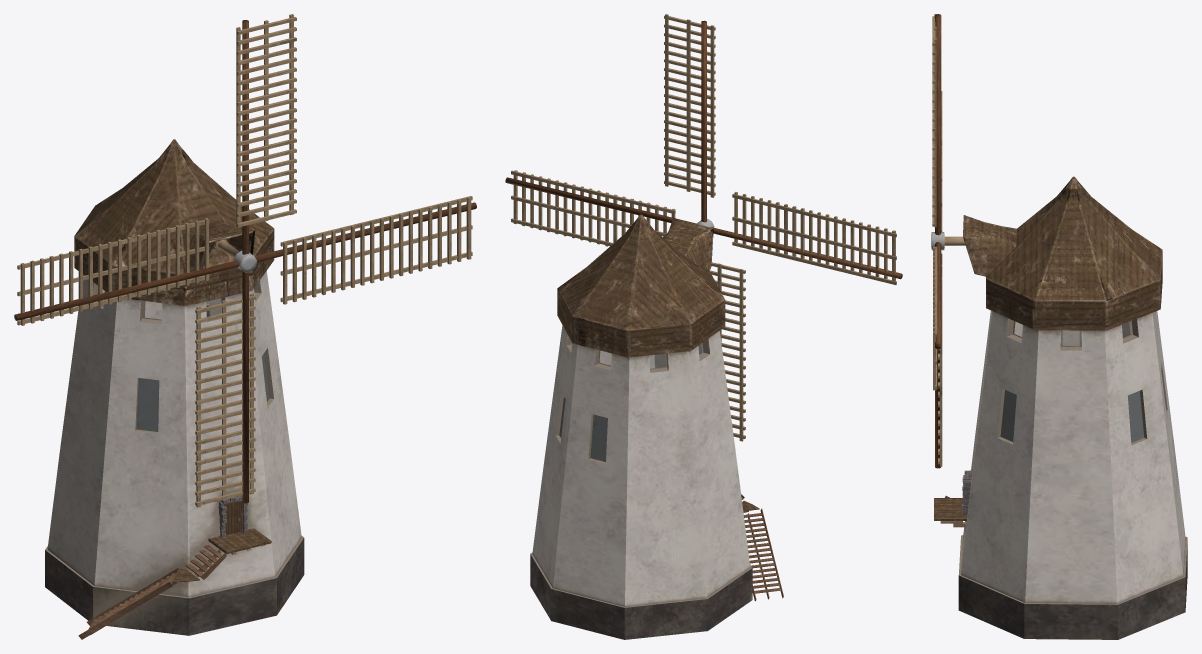
3 views of the same model, side by side, from view 1: azimuth 30°, elevation 25°; view 2: azimuth 150°, elevation 25°; view 3: azimuth 270°, elevation 25° (orthographic). The views are drawn at different scales.
Parts seen in each view (by area): view 1: Cube, Cube.001, Cube.049, Cube.048, Cube.051, Cube.050, Cylinder.002, Cylinder.001, Cube.010, Cube.004, Cube.005; view 2: Cube, Cube.001, Cube.051, Cube.048, Cube.049, Cube.050, Cylinder.002, Cube.005, Cylinder.001; view 3: Cube, Cube.001, Cylinder.001, Cube.048, Cube.050, Cube.004, Cube.049, Cylinder.002, Cylinder.
Part boxes in pixels (x1=…): Cube: x1=45, y1=271, x2=304, y2=635; Cube.001: x1=74, y1=139, x2=274, y2=306; Cube.049: x1=280, y1=196, x2=472, y2=304; Cube.048: x1=236, y1=14, x2=296, y2=227; Cube.051: x1=17, y1=218, x2=209, y2=325; Cube.050: x1=195, y1=293, x2=255, y2=507; Cylinder.002: x1=14, y1=202, x2=476, y2=320; Cylinder.001: x1=242, y1=20, x2=248, y2=503; Cube.010: x1=78, y1=549, x2=226, y2=639; Cube.004: x1=172, y1=528, x2=271, y2=582; Cube.005: x1=88, y1=545, x2=222, y2=629; Cube: x1=530, y1=325, x2=752, y2=639; Cube.001: x1=557, y1=214, x2=725, y2=357; Cube.051: x1=732, y1=192, x2=896, y2=284; Cube.048: x1=664, y1=14, x2=715, y2=197; Cube.049: x1=511, y1=170, x2=675, y2=246; Cube.050: x1=709, y1=262, x2=745, y2=441; Cylinder.002: x1=505, y1=177, x2=902, y2=279; Cube.005: x1=741, y1=497, x2=781, y2=593; Cylinder.001: x1=701, y1=20, x2=706, y2=222; Cube: x1=958, y1=310, x2=1187, y2=639; Cube.001: x1=963, y1=176, x2=1162, y2=330; Cylinder.001: x1=935, y1=14, x2=941, y2=468; Cube.048: x1=932, y1=14, x2=936, y2=227; Cube.050: x1=938, y1=253, x2=942, y2=466; Cube.004: x1=934, y1=497, x2=967, y2=520; Cube.049: x1=933, y1=246, x2=937, y2=390; Cylinder.002: x1=935, y1=242, x2=941, y2=349; Cylinder: x1=931, y1=232, x2=965, y2=250.
Size of the model in its own units: 1535 by 1964 by 790.
12 materials, 12 textured.
